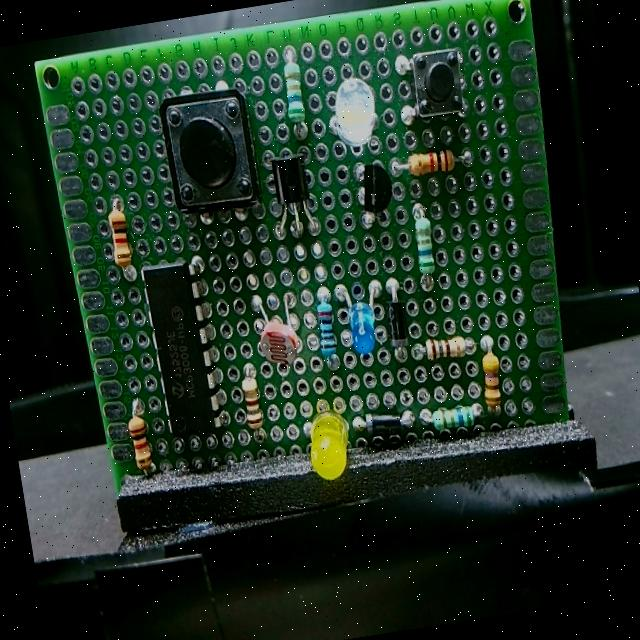IC: (136, 245, 234, 450)
cds: (251, 290, 311, 373)
diode: (377, 278, 413, 368), (354, 396, 415, 448)
led: (300, 398, 355, 490), (323, 75, 385, 154), (336, 273, 392, 355)
resistor: (468, 333, 518, 422), (400, 209, 448, 289), (309, 282, 350, 374), (122, 396, 160, 492), (392, 138, 462, 190), (424, 393, 494, 442), (272, 56, 314, 136), (417, 328, 478, 380), (98, 199, 140, 270), (238, 368, 274, 446)
switch: (152, 79, 268, 229), (402, 39, 477, 122)
transistor: (261, 148, 320, 252), (344, 157, 402, 225)
